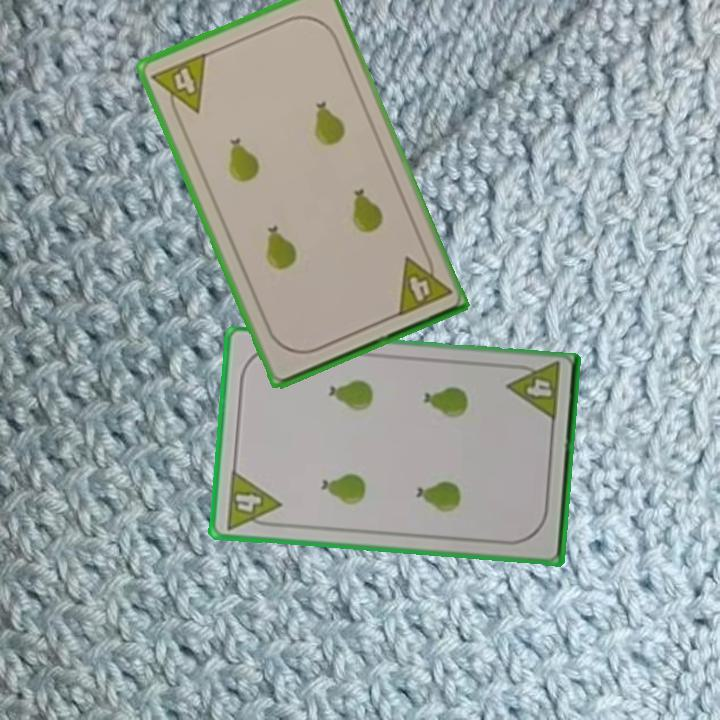4p: (148, 49, 210, 124), (393, 247, 454, 320), (222, 467, 284, 532), (504, 360, 563, 425)
